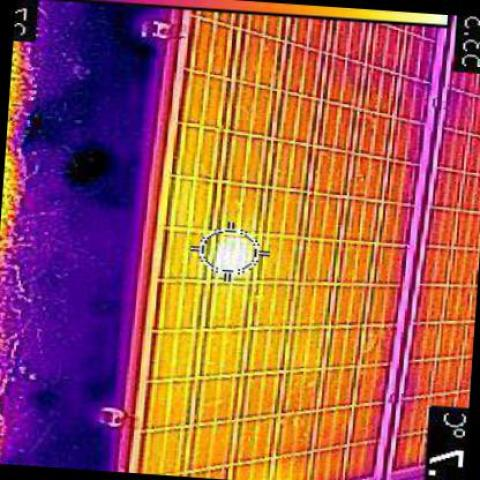fault: (217, 238, 254, 277)
